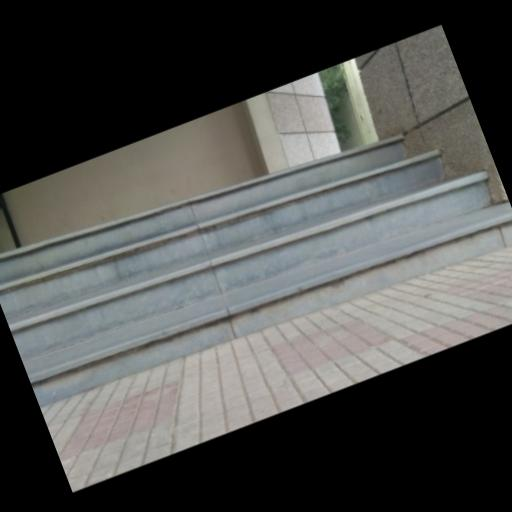stairs: (0, 137, 511, 406)
